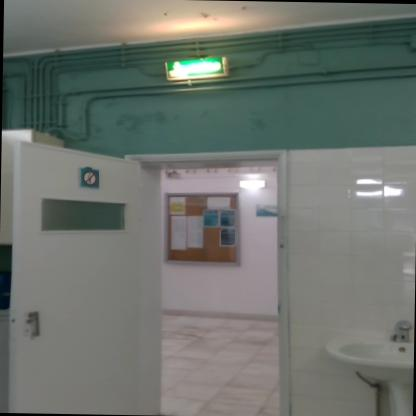open: (0, 119, 302, 416)
